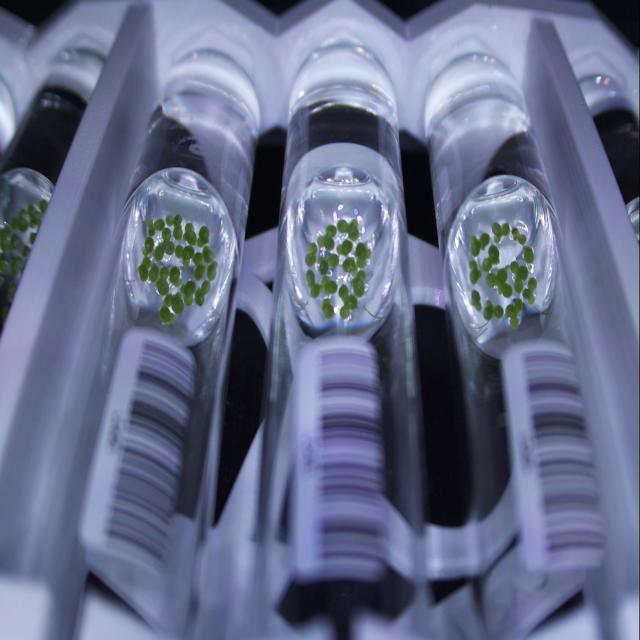Lemna-Gibba: (486, 269, 512, 299), (182, 223, 210, 247), (339, 285, 358, 319), (154, 228, 174, 260), (510, 260, 528, 294), (505, 299, 524, 329), (318, 225, 338, 250), (482, 245, 500, 272), (470, 233, 490, 257), (521, 277, 538, 305), (306, 270, 322, 299), (166, 213, 182, 240), (355, 242, 371, 269), (338, 220, 359, 240), (491, 222, 511, 243), (180, 280, 196, 306), (195, 280, 211, 306), (351, 270, 366, 297), (175, 245, 195, 265), (484, 300, 504, 320), (146, 218, 165, 237), (305, 242, 318, 267), (158, 267, 169, 295), (336, 238, 352, 257), (322, 275, 338, 294), (194, 247, 209, 267), (138, 257, 150, 282), (469, 260, 481, 284), (171, 292, 184, 314), (159, 305, 174, 324), (342, 257, 358, 274), (321, 299, 334, 319), (169, 265, 180, 287), (511, 227, 526, 243), (522, 245, 534, 264), (142, 237, 154, 255), (208, 260, 218, 280), (471, 290, 481, 310), (318, 257, 329, 275), (326, 254, 339, 269), (194, 264, 206, 280), (149, 264, 159, 282), (204, 247, 214, 262), (165, 297, 170, 305), (166, 294, 172, 299)
